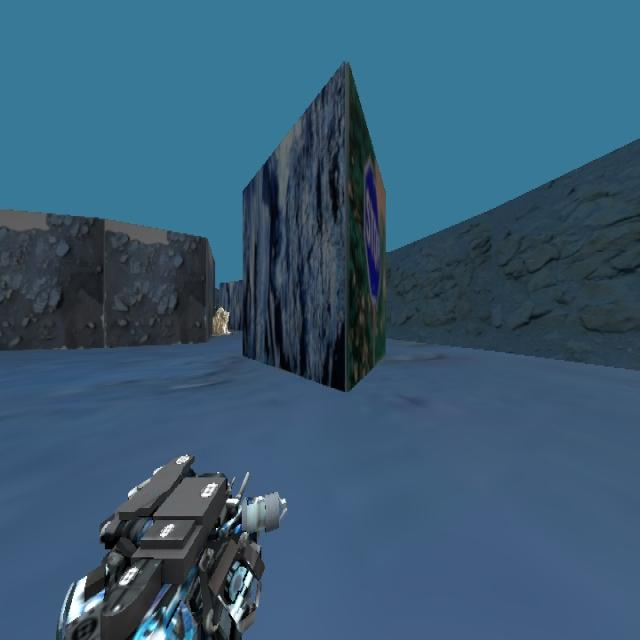Mushroom: (211, 305, 230, 335)
Stop_Sign: (240, 59, 388, 392), (362, 156, 381, 304)
